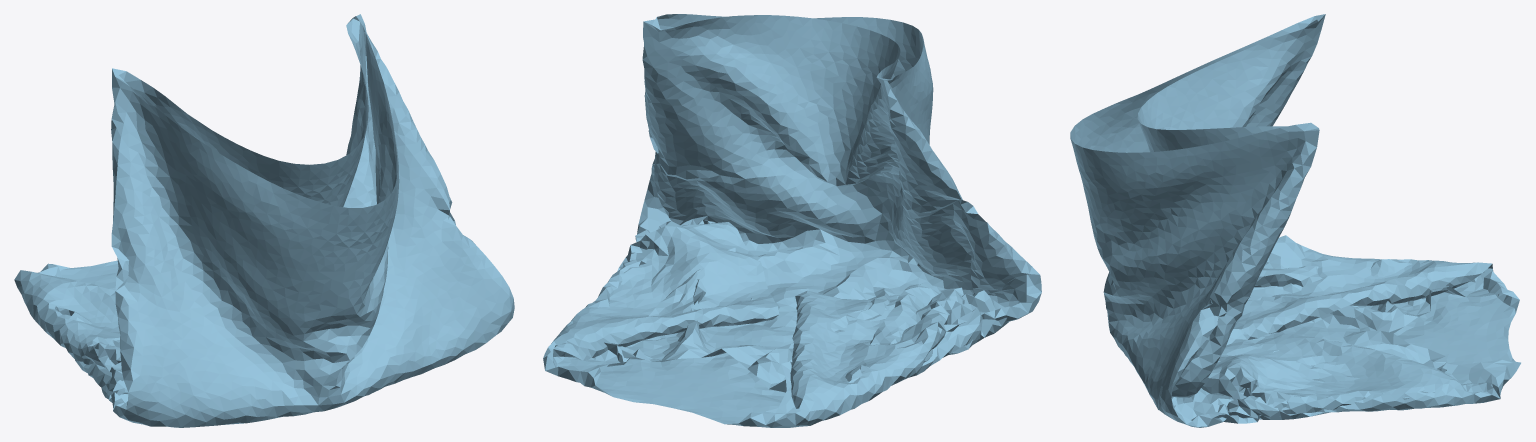
The model's file is frame_14.glb.
3 renders of one model, left to right at view 1: azimuth 30°, elevation 25°; view 2: azimuth 150°, elevation 25°; view 3: azimuth 270°, elevation 25°, orthographic. The views are drawn at different scales.
Visible parts, largest first — view 1: frame_14.obj; view 2: frame_14.obj; view 3: frame_14.obj.
Boxes of the visible parts, box(x1,y1,x2,y2) form: frame_14.obj: box(14, 14, 514, 427); frame_14.obj: box(543, 14, 1041, 427); frame_14.obj: box(1070, 14, 1520, 427).
Size of the model in its own units: 1.09 by 0.7778 by 1.14.
